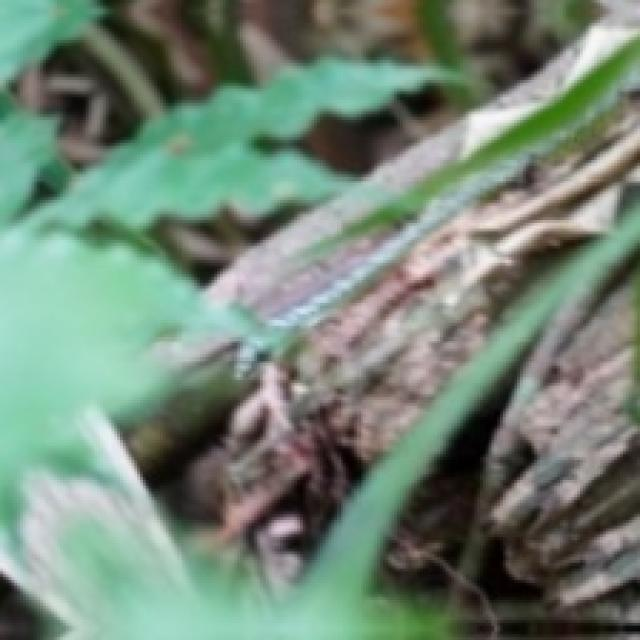paradise tree snake: (0, 20, 637, 637)
